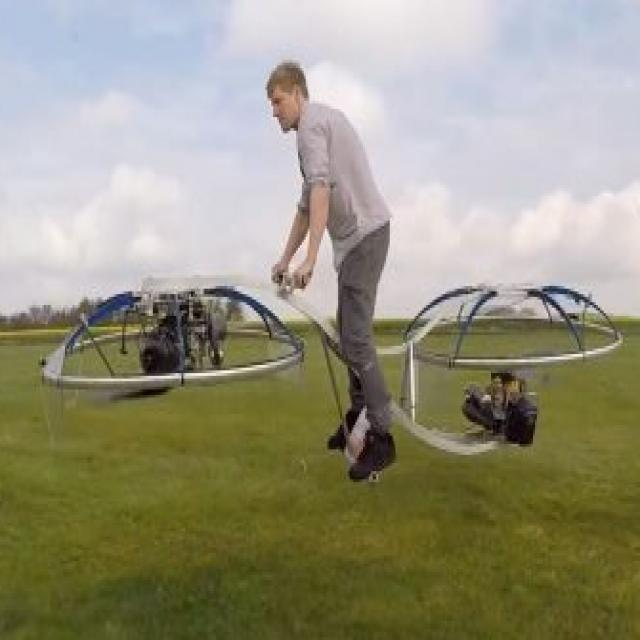drone: (51, 226, 632, 501)
